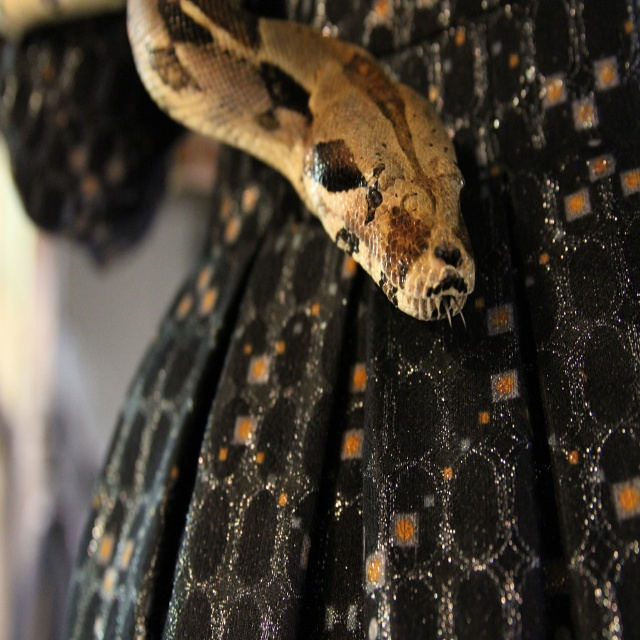Snake: (126, 0, 478, 322)
